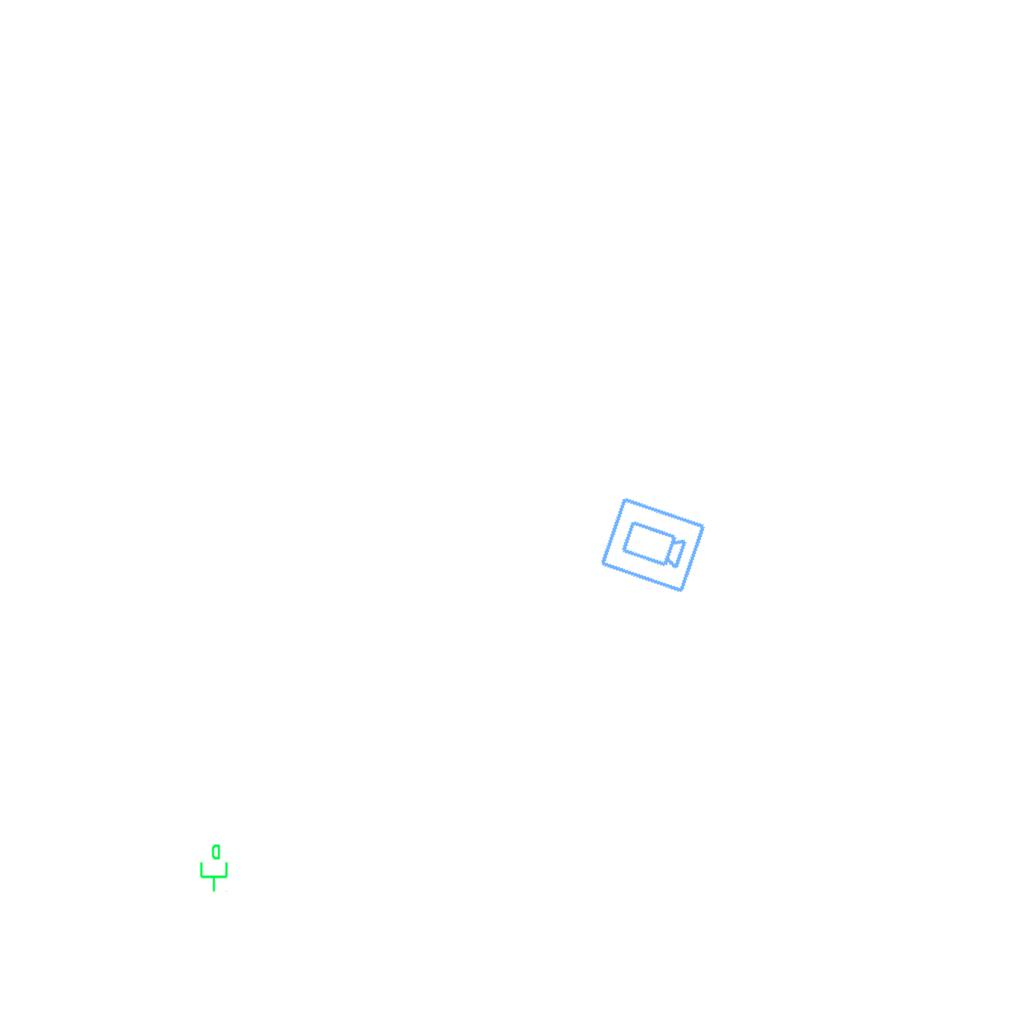Datenanschluss_einfach: (196, 843, 230, 893)
KFO_Kamera_mit_Festobjektiv: (596, 494, 709, 597)
